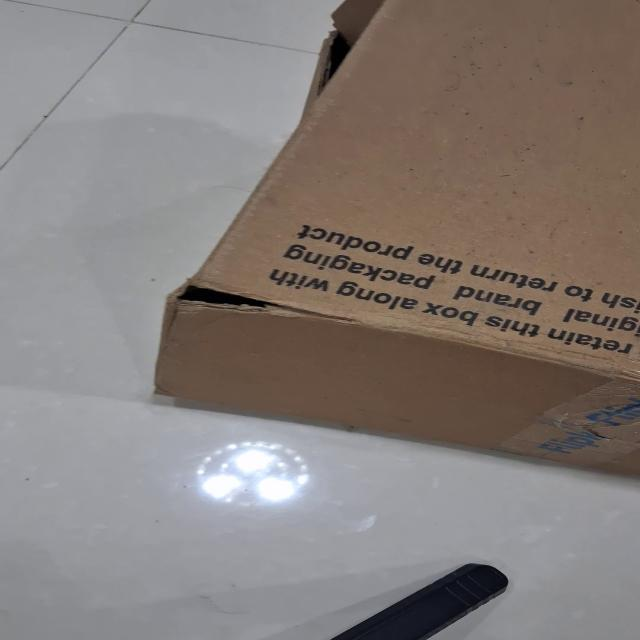paper: (150, 0, 639, 475)
